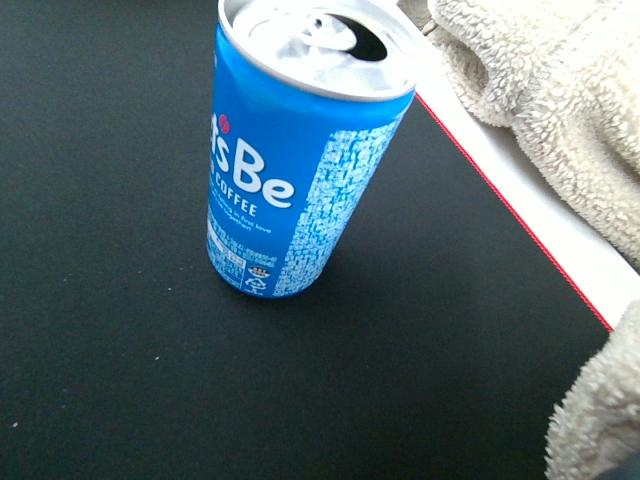letsbe: (206, 1, 423, 300)
